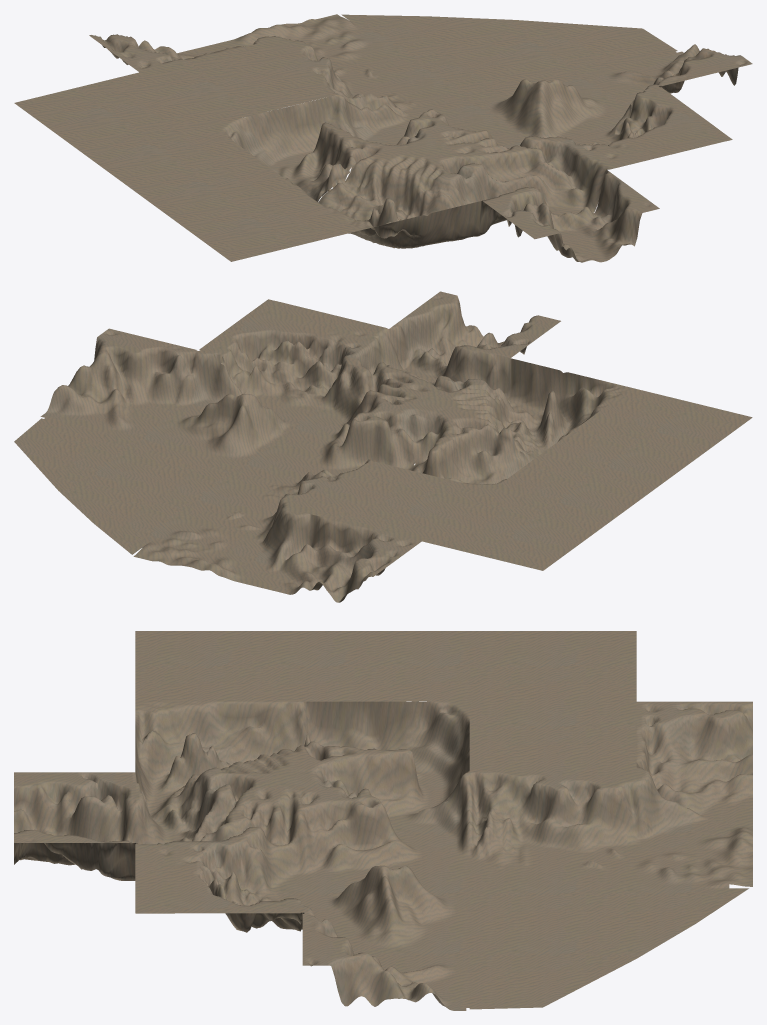
Rendered from terrain.fbx.
The picture shows the model from 3 angles, top to bottom: view 1: azimuth 30°, elevation 25°; view 2: azimuth 150°, elevation 25°; view 3: azimuth 270°, elevation 25°; orthographic projection. The views are drawn at different scales.
Parts seen in each view (by area): view 1: terrain; view 2: terrain; view 3: terrain.
Boxes of the visible parts, <box> form: terrain: <box>14,14,752,262</box>; terrain: <box>14,291,752,602</box>; terrain: <box>14,631,752,1010</box>.
Size of the model in its own units: 47.37 by 3.01 by 44.24.
